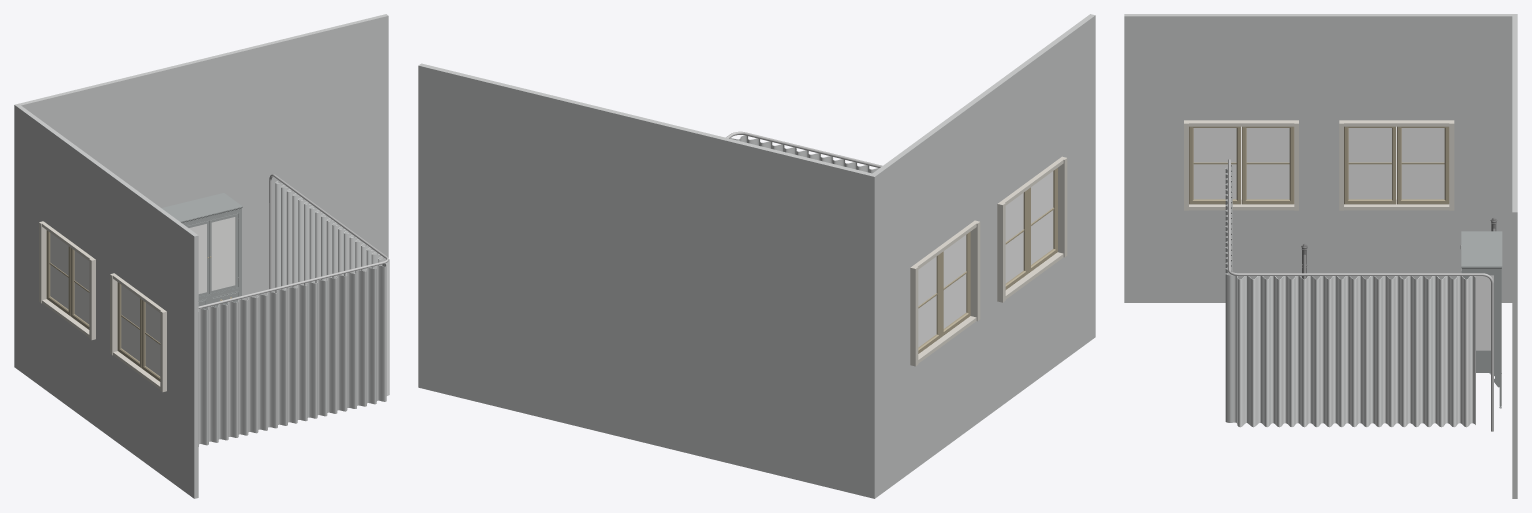
File: 941_corner_of_the_hospital_room.glb
3 renders of one model, left to right at view 1: azimuth 30°, elevation 25°; view 2: azimuth 150°, elevation 25°; view 3: azimuth 270°, elevation 25°, orthographic. The views are drawn at different scales.
Parts seen in each view (by area): view 1: kabe1, kabe2, cartain1, cartain2, door_right, cabint, door_left, cartainrod2, cartainrod1; view 2: kabe1, kabe2, cartain1; view 3: kabe2, cartain2, cabint, kabe1, cartain1, cartainrod2.
Boxes of the visible parts, x1,y1,x2,y2 form: kabe1: (14, 14, 388, 368); kabe2: (16, 105, 198, 498); cartain1: (198, 263, 386, 446); cartain2: (275, 181, 389, 395); door_right: (209, 213, 238, 293); cabint: (161, 193, 242, 309); door_left: (186, 220, 209, 296); cartainrod2: (269, 174, 388, 291); cartainrod1: (198, 259, 388, 308); kabe1: (418, 63, 877, 498); kabe2: (873, 14, 1095, 496); cartain1: (739, 135, 879, 173); kabe2: (1124, 14, 1512, 302); cartain2: (1236, 276, 1475, 427); cabint: (1460, 231, 1502, 408); kabe1: (1512, 14, 1517, 498); cartain1: (1225, 165, 1235, 422); cartainrod2: (1231, 272, 1493, 431).
Size of the model in its own units: 4.95 by 3.3 by 4.1.
